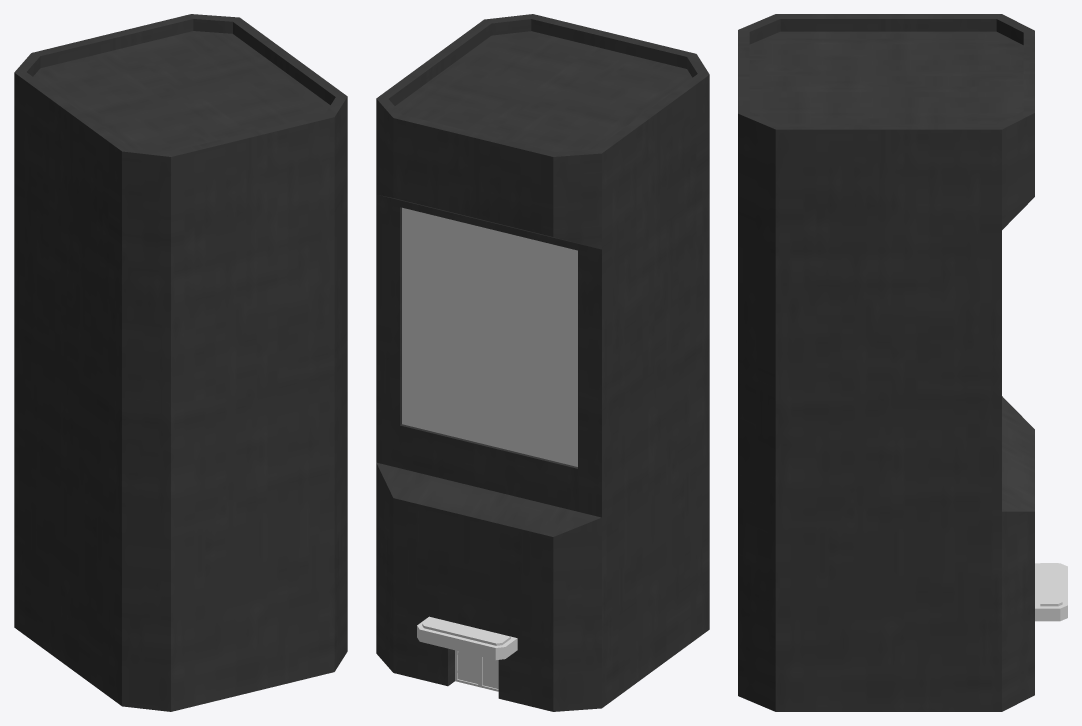
The model's file is Build 17.fbx.
The picture shows the model from 3 angles, left to right: view 1: azimuth 30°, elevation 25°; view 2: azimuth 150°, elevation 25°; view 3: azimuth 270°, elevation 25°; orthographic projection. The views are drawn at different scales.
Visible parts, largest first — view 1: Cube.006; view 2: Cube.006, Cube.055, Cube.035; view 3: Cube.006, Cube.055.
Part boxes in pixels (bbox=[...]): Cube.006: bbox=[14, 14, 347, 711]; Cube.006: bbox=[376, 14, 709, 711]; Cube.055: bbox=[417, 616, 517, 660]; Cube.035: bbox=[455, 650, 498, 691]; Cube.006: bbox=[738, 14, 1034, 711]; Cube.055: bbox=[1035, 563, 1067, 621].
Size of the model in its own units: 2001 by 4703 by 2414.
Materials: 2 (1 with a texture image).
